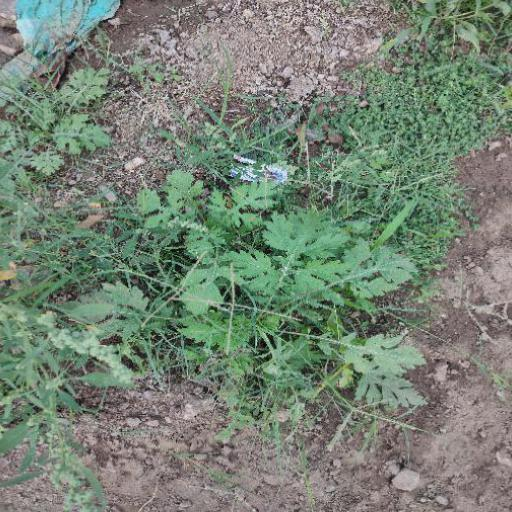weed: (29, 178, 452, 409)
